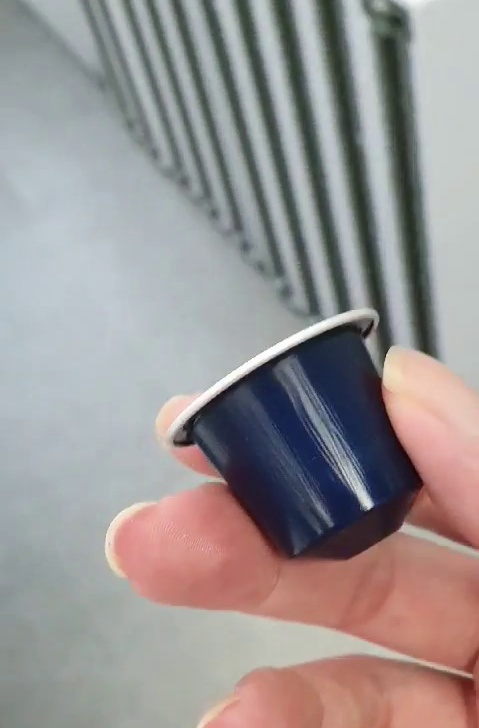capsule_1: (170, 305, 417, 559)
